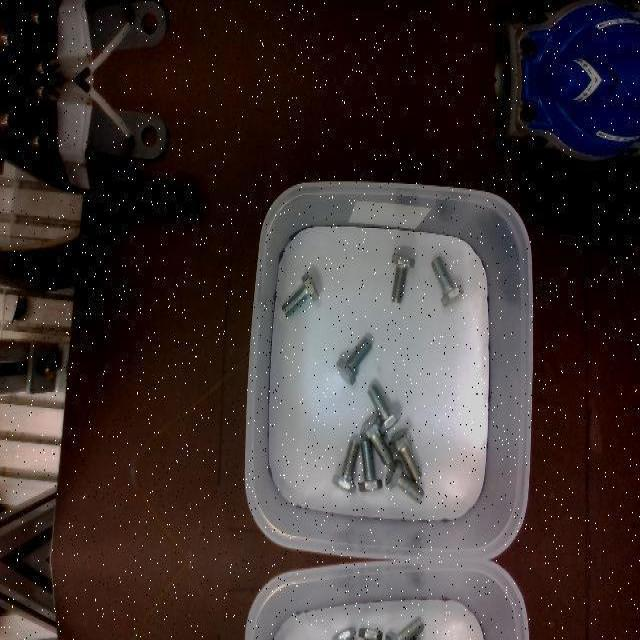screw: (388, 427, 421, 483), (385, 457, 424, 503), (336, 338, 373, 386), (359, 414, 393, 466), (367, 384, 402, 434), (281, 272, 319, 318), (431, 256, 464, 306), (331, 439, 359, 493), (358, 439, 383, 493), (391, 254, 415, 304), (384, 617, 423, 639), (331, 628, 359, 640), (357, 628, 382, 640)
